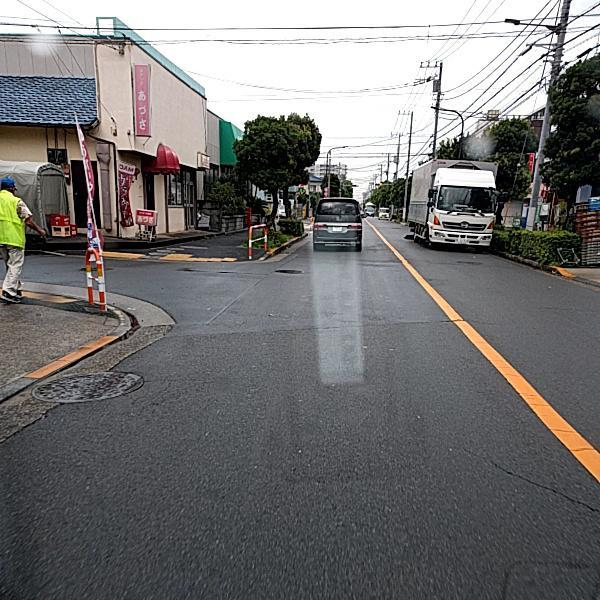D10: (452, 437, 599, 518)
D50: (29, 366, 144, 402)
